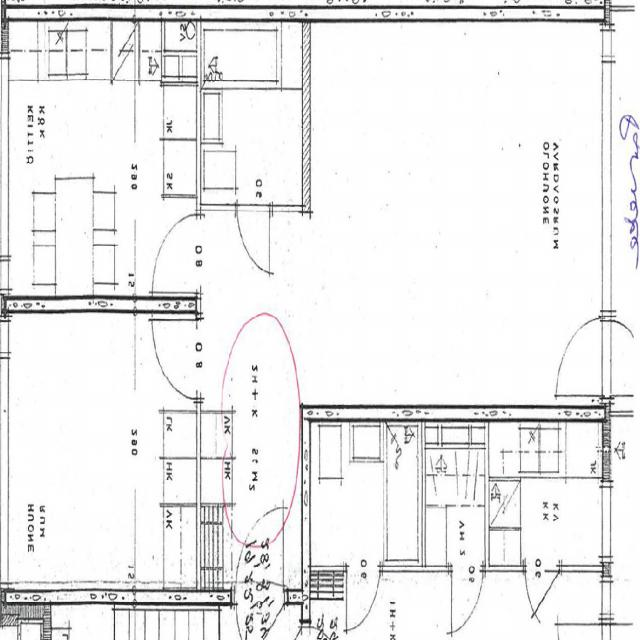door: (237, 503, 284, 605), (560, 321, 612, 395), (153, 319, 201, 397), (154, 214, 201, 292), (602, 321, 640, 395), (238, 204, 270, 267)
